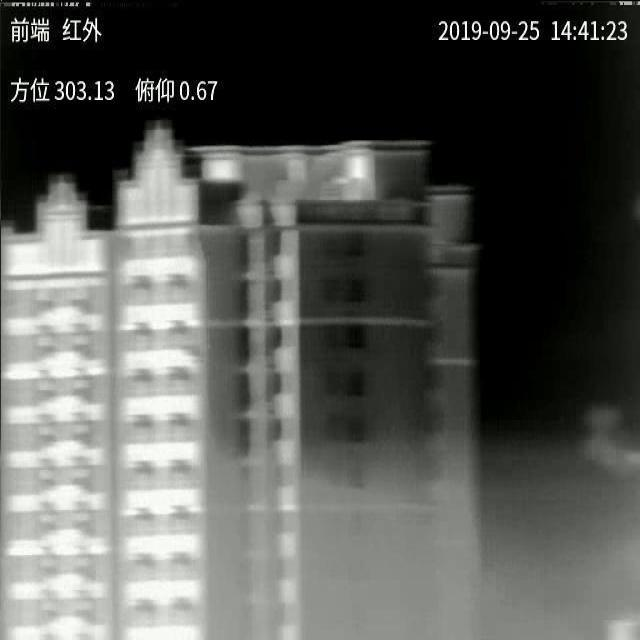drone: (584, 409, 639, 474)
